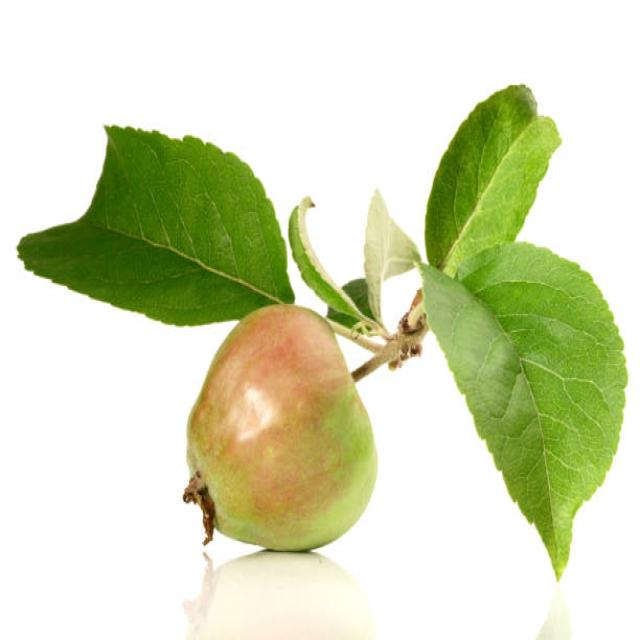Unripe: (184, 302, 377, 550)
